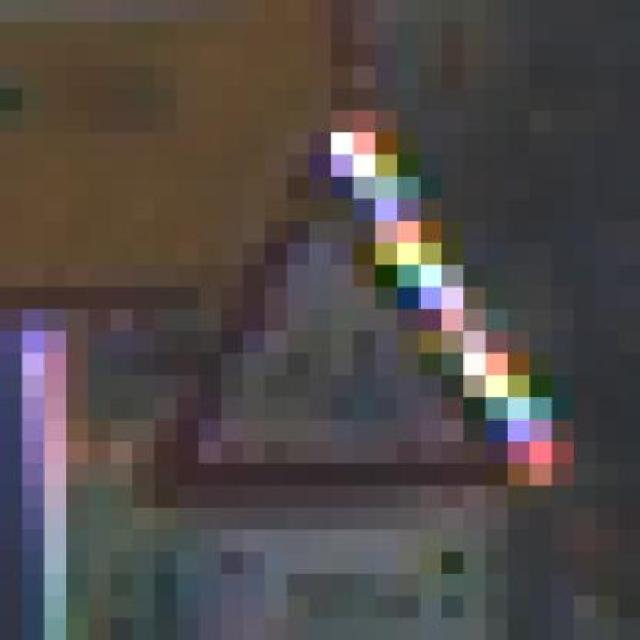CYCLE ROUTE AHEAD WARNING: (132, 89, 530, 552)
